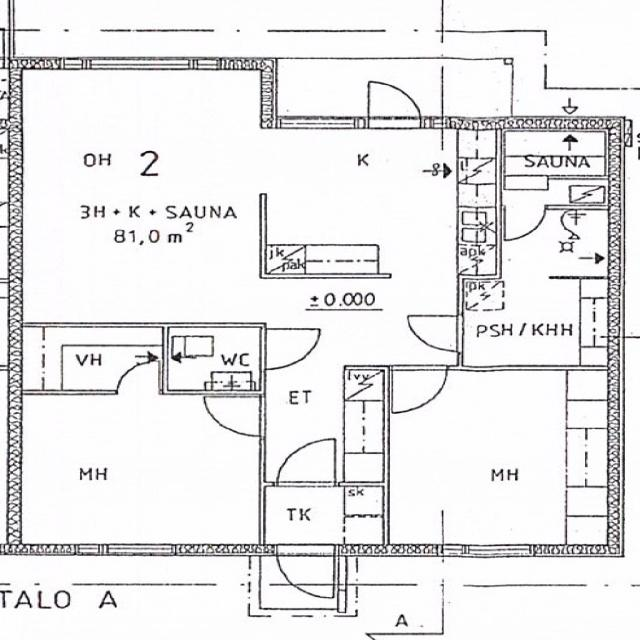door: (276, 544, 334, 600), (277, 438, 335, 487), (368, 76, 421, 128), (392, 365, 447, 411), (261, 329, 320, 368), (210, 397, 268, 436), (410, 315, 464, 351), (118, 358, 158, 394), (505, 204, 544, 239)
